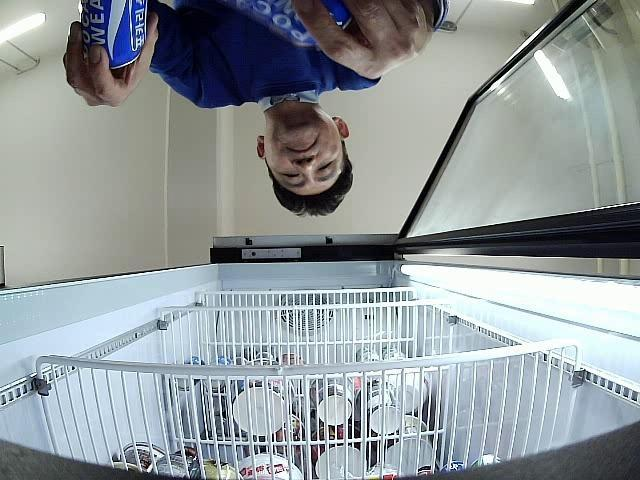13_pocariSweat: (236, 0, 352, 46), (80, 0, 147, 69)
